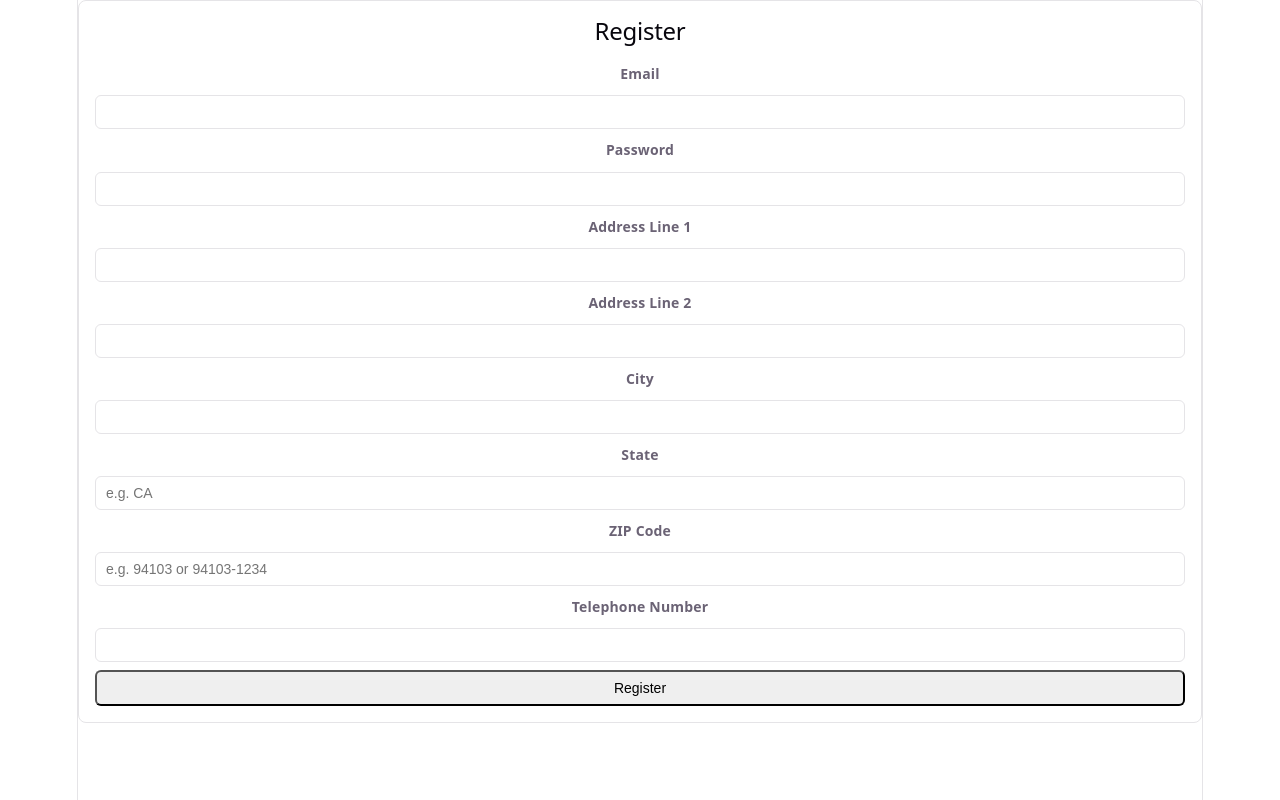
RegisterForm › shows an error message when registration fails
Type "a@b.com" into the field labelled "Email" at (640, 112), box [95,95,1185,129]
Type "password1" into the password field labelled "Password" at (640, 188), box [95,172,1185,206]
Type "1 Elm St" into the field labelled "Address Line 1" at (640, 265), box [95,248,1185,282]
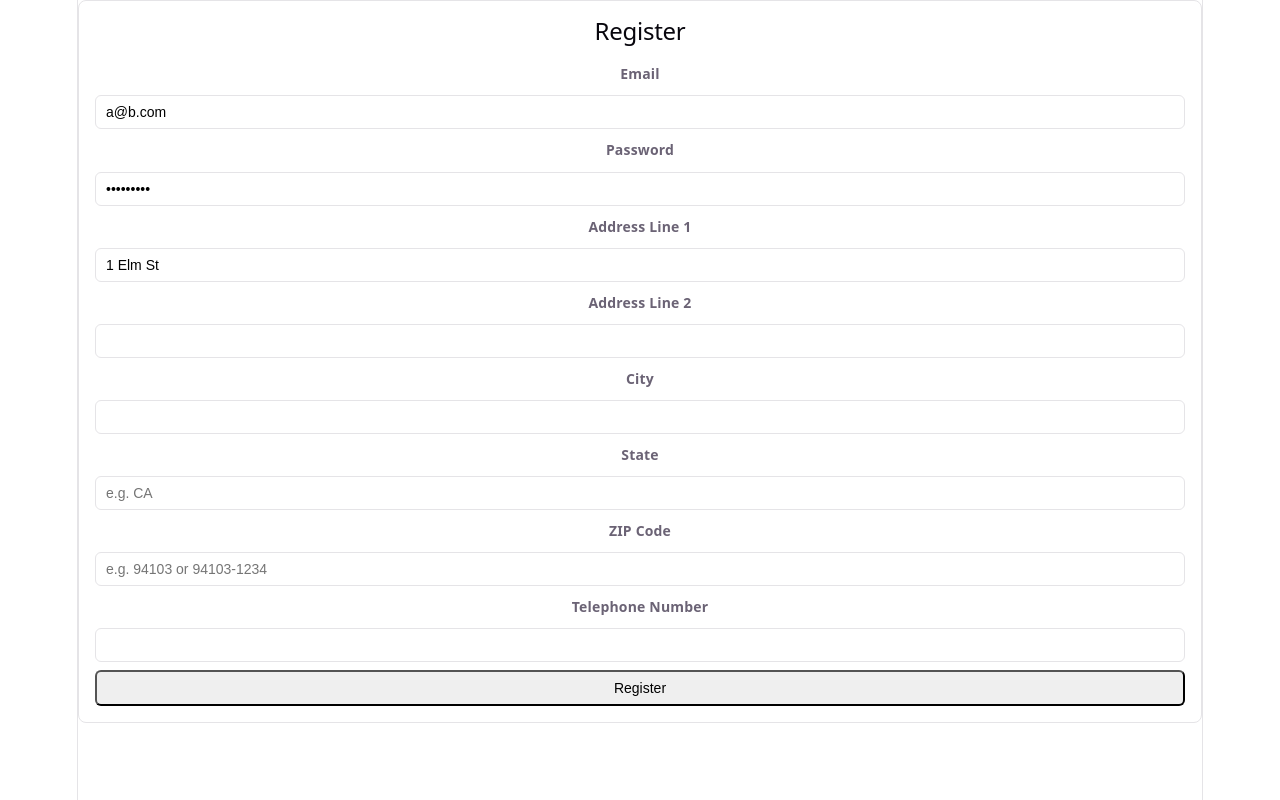
Type "Springfield" into the field labelled "City" at (640, 417), box [95,400,1185,434]
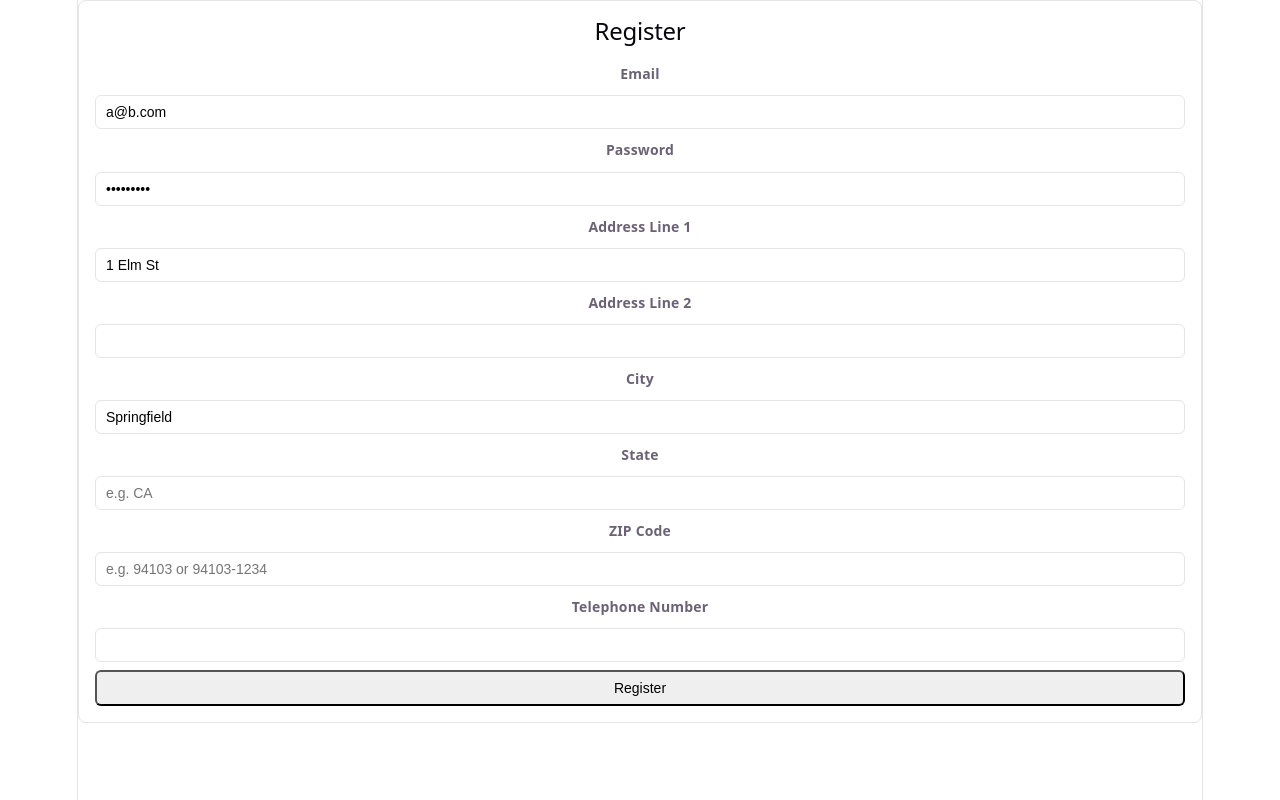
Type "IL" into the field labelled "State" at (640, 493), box [95,476,1185,510]
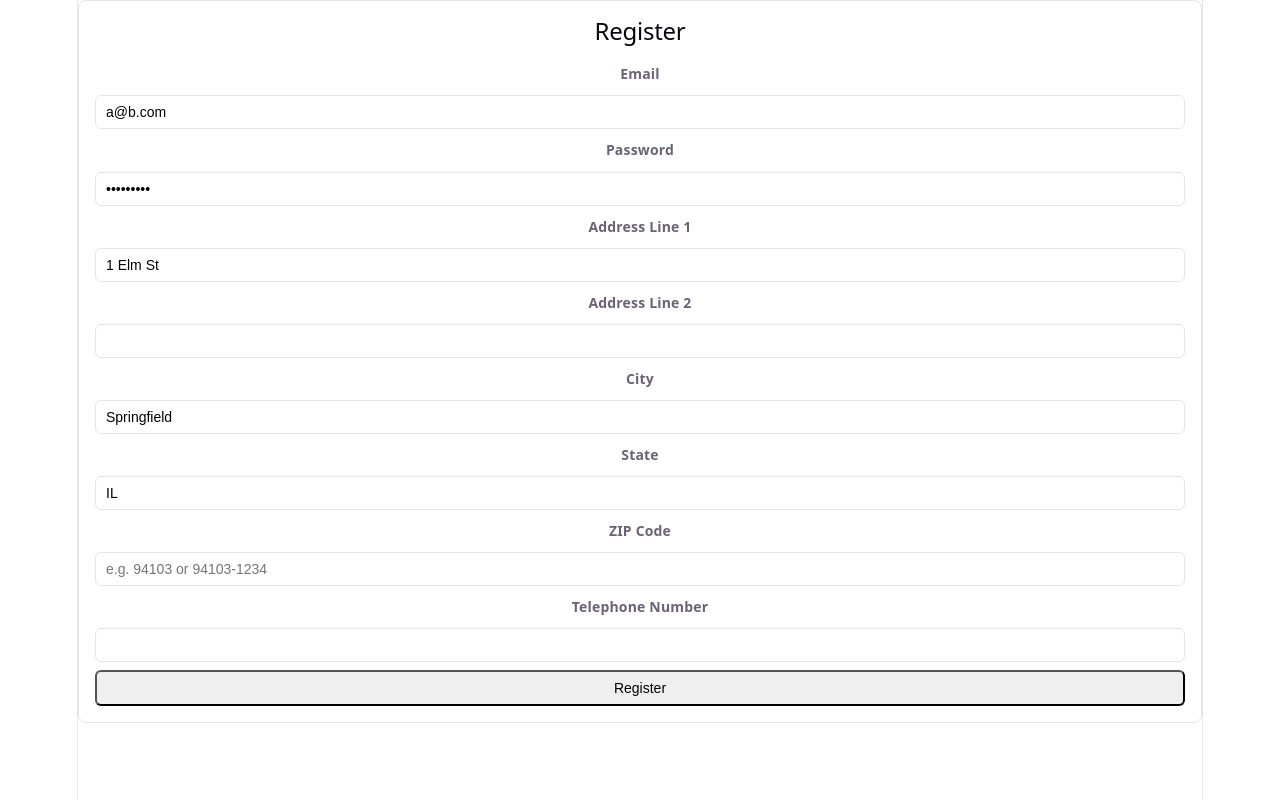
Type "62701" into the field labelled "ZIP Code" at (640, 569), box [95,552,1185,586]
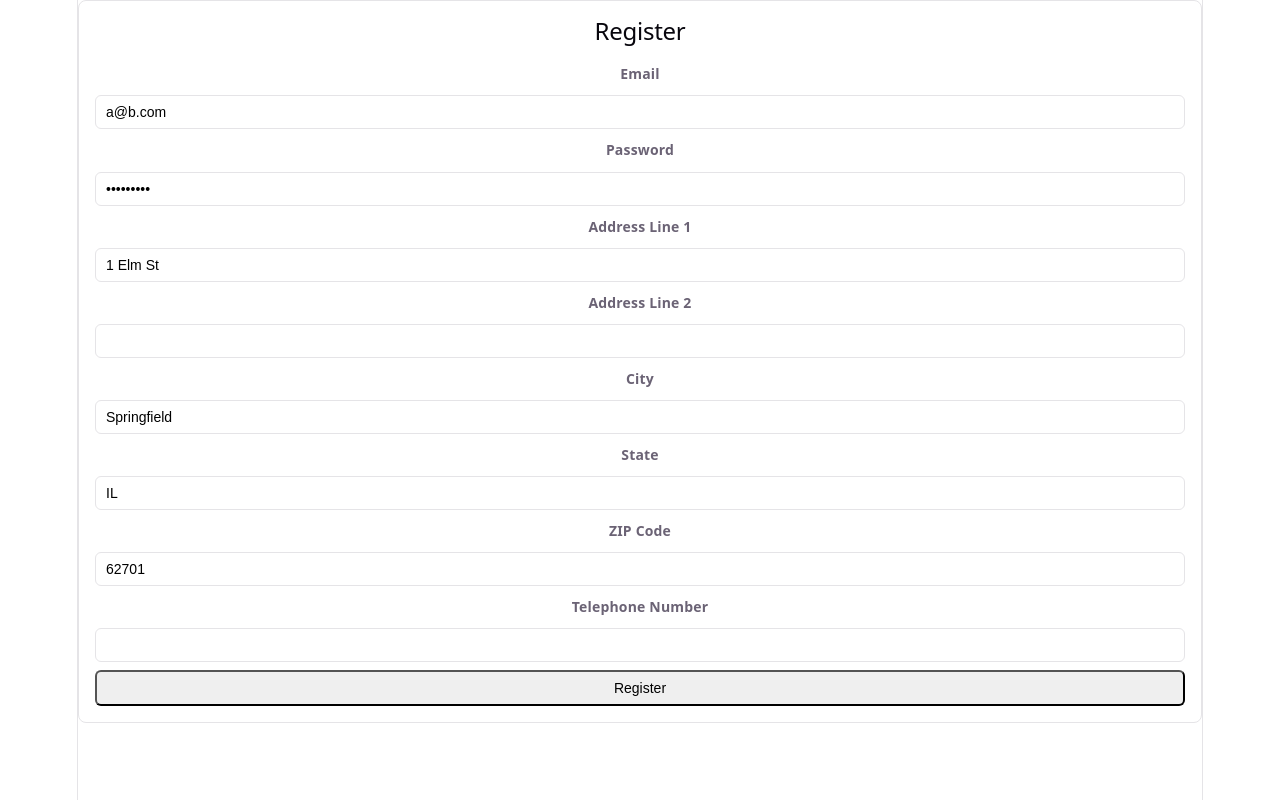
Type "555-0100" into the field labelled "Telephone Number" at (640, 645), box [95,628,1185,662]
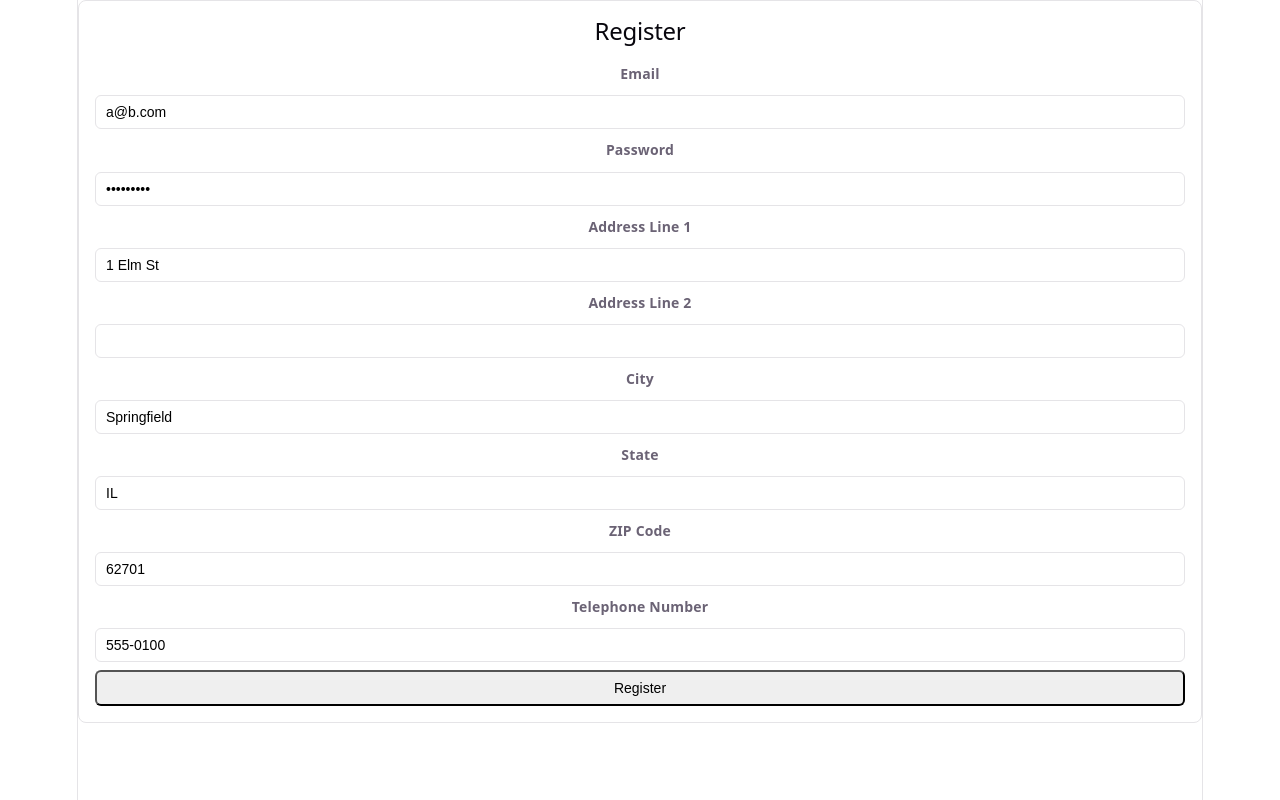
Click the button "Register" at (640, 688), box [95,670,1185,706]
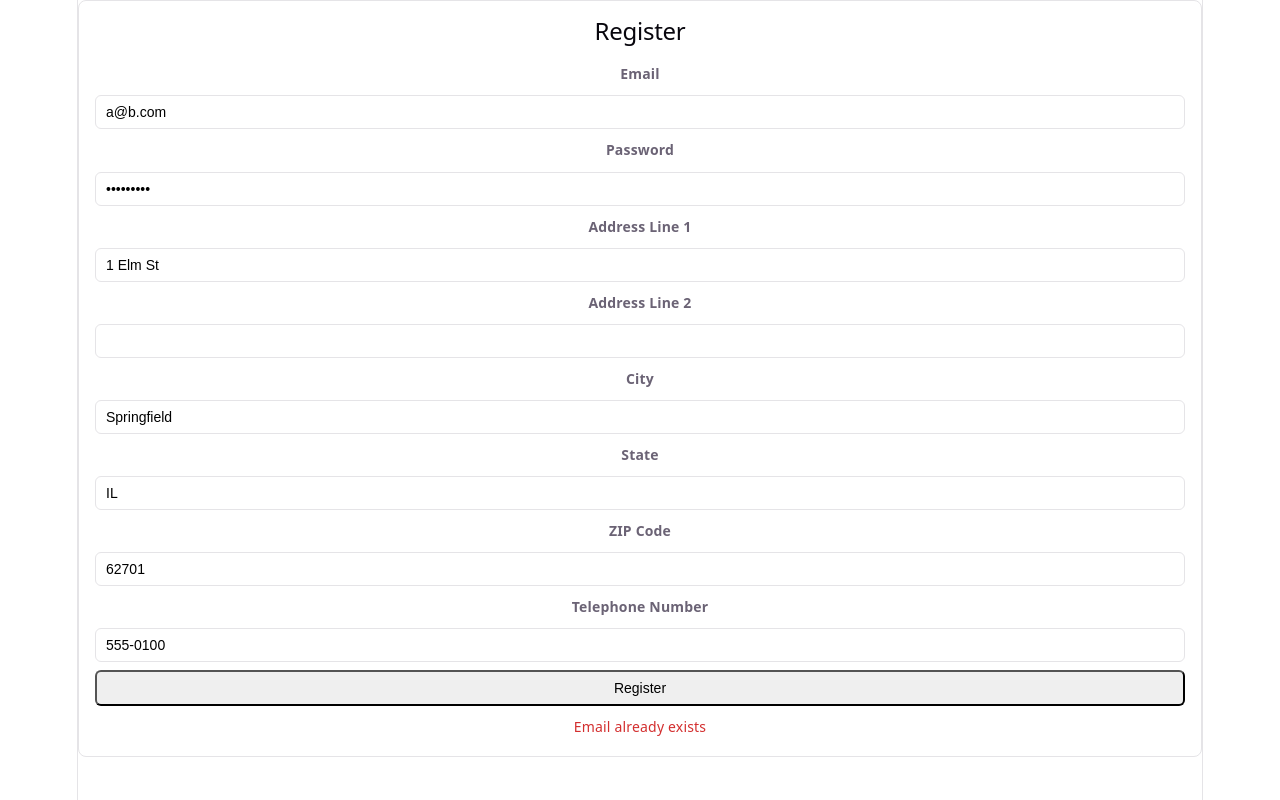
Check: the message reads "Email already exists", box [574,717,706,736]
